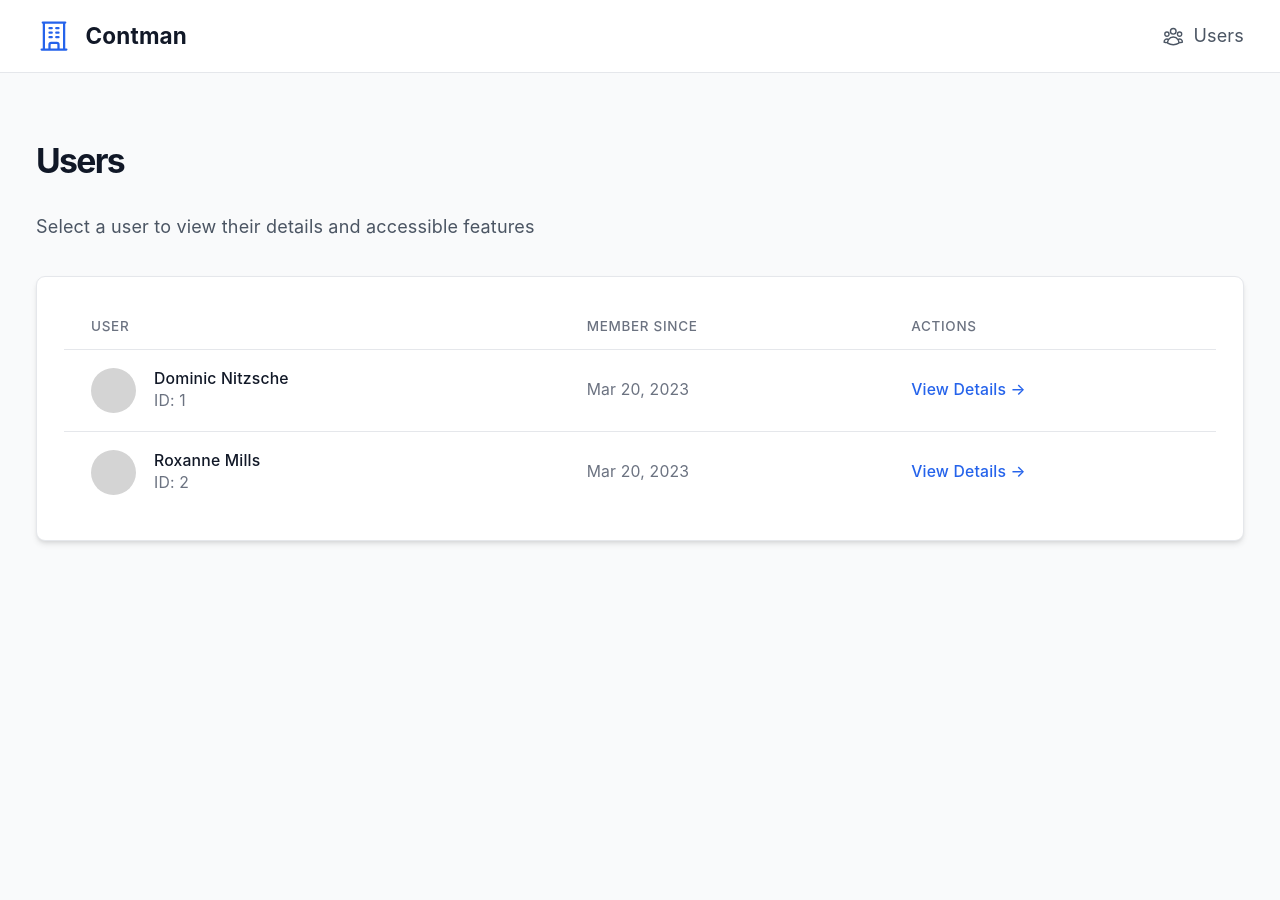
Test: User Flow Integration › shows correct features for different users
Expected: the heading "Users" is shown, [36,140,124,181]
Click the link "View Details →" in the row of "Roxanne Mills". click: (968, 471)
box: [911,462,1026,481]
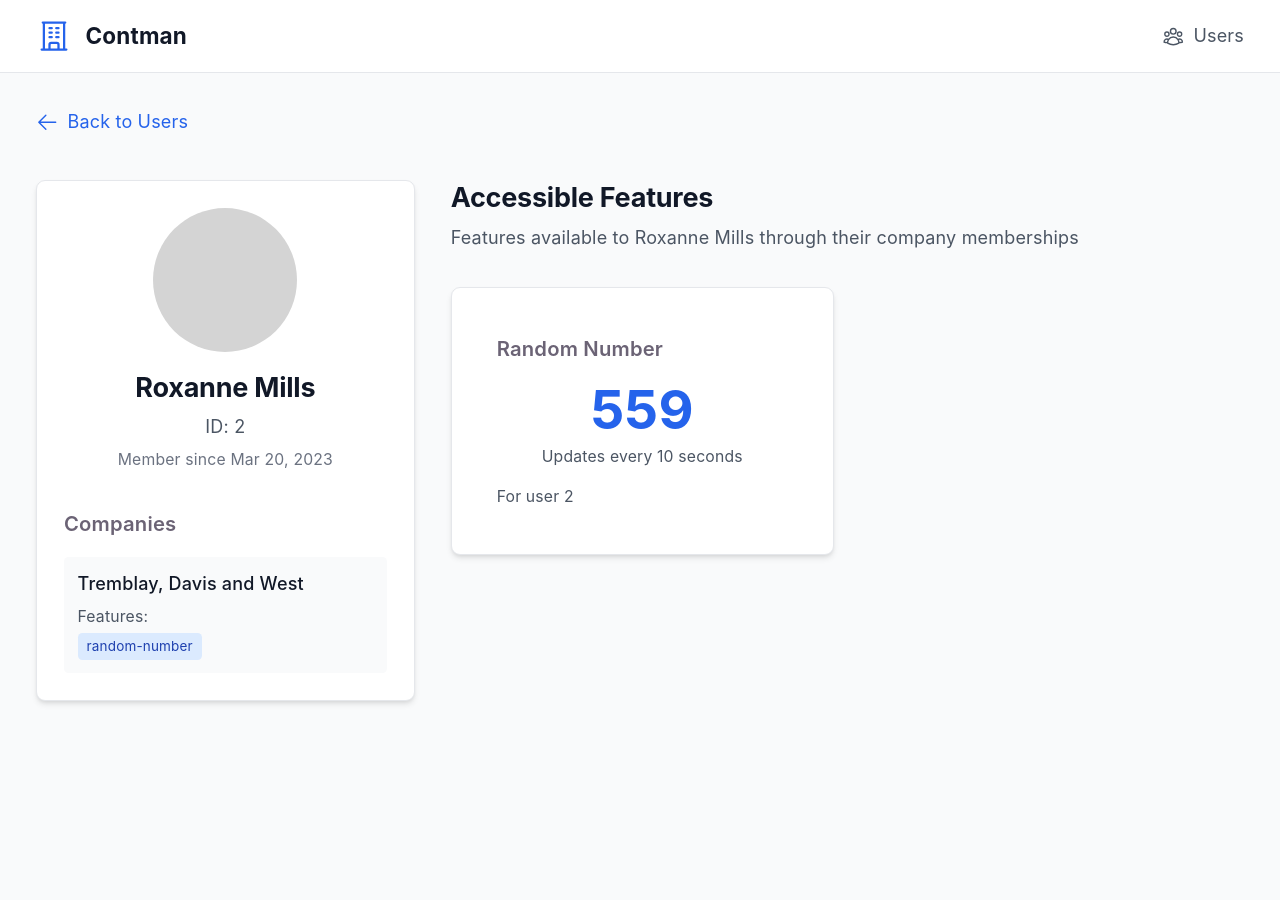
Now the heading "Roxanne Mills" is shown, box [135,371,315,404]
Now the text "random-number" is shown, box [78,633,202,660]
Now the heading "Random Number" is shown, box [497,336,663,361]
